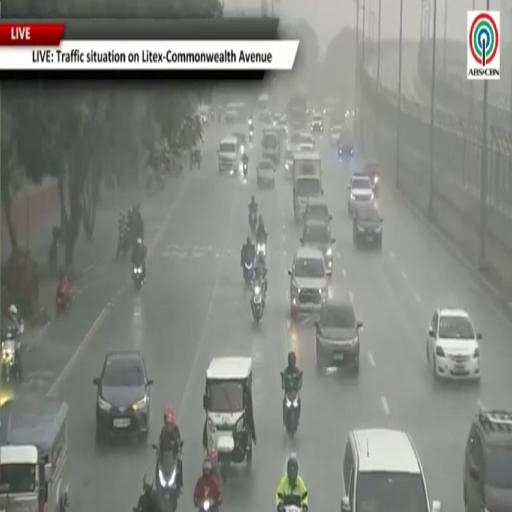car: (341, 428, 441, 511), (93, 350, 152, 443), (464, 410, 511, 511), (427, 308, 481, 382), (315, 298, 362, 372), (289, 247, 328, 318), (301, 220, 335, 276), (353, 202, 383, 250), (348, 175, 374, 216), (304, 198, 332, 225), (218, 137, 239, 172), (363, 159, 380, 196), (256, 159, 275, 188), (339, 127, 354, 162), (275, 117, 288, 140), (233, 133, 247, 154), (330, 124, 341, 147), (300, 134, 314, 152), (285, 149, 293, 180), (311, 114, 323, 133), (288, 132, 301, 149), (273, 112, 282, 126)
jeepney: (204, 358, 253, 479)
motorcycle: (154, 445, 179, 511), (281, 373, 302, 438), (2, 326, 22, 382), (251, 281, 264, 324), (56, 285, 74, 316), (278, 492, 307, 511), (116, 224, 130, 258), (132, 265, 143, 291), (243, 261, 254, 284), (199, 499, 218, 511), (249, 211, 257, 234), (256, 242, 266, 260), (243, 161, 248, 179), (249, 128, 254, 141), (211, 109, 214, 121)
truck: (0, 394, 68, 511), (292, 151, 323, 222), (288, 92, 308, 131), (262, 128, 281, 166), (256, 93, 269, 121)
